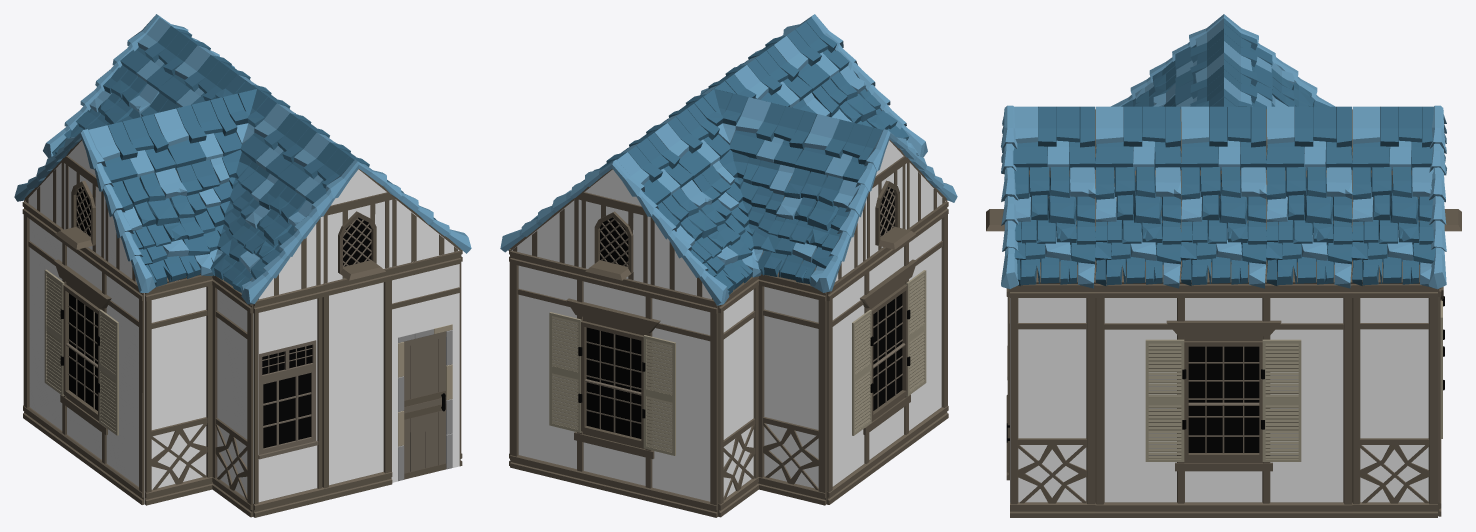
The model's file is house_05_full.fbx.
The picture shows the model from 3 angles, left to right: view 1: azimuth 30°, elevation 25°; view 2: azimuth 150°, elevation 25°; view 3: azimuth 270°, elevation 25°; orthographic projection. The views are drawn at different scales.
Parts seen in each view (by area): view 1: WINDOW_07_3, WINDOW_04_3, WALL_03_3, WALL_04_4, DOOR_02_2, WALL_04_3, ROOF_base_6, ROOF_inner_corner_3, ROOF_base_5, ROOF_triangle_window_grid_6, ROOF_base_small_8, ROOF_base_small_7 (+19 smaller); view 2: WINDOW_07_4, WINDOW_07_3, WALL_04_5, WALL_04_6, ROOF_base_11, ROOF_inner_corner_4, ROOF_base_10, ROOF_triangle_window_grid_8, ROOF_base_small_16, ROOF_base_small_14, ROOF_base_small_15, ROOF_base_5 (+16 smaller); view 3: WINDOW_07_5, WALL_04_7, WALL_04_8, ROOF_base_8, ROOF_base_4, ROOF_base_7, ROOF_base_9, ROOF_base_3, ROOF_base_small_11, ROOF_base_small_5, ROOF_base_small_10, ROOF_base_small_4 (+13 smaller).
Boxes of the visible parts, x1=… form: WINDOW_07_3: x1=22, y1=201, x2=144, y2=504; WINDOW_04_3: x1=253, y1=284, x2=323, y2=517; WALL_03_3: x1=322, y1=267, x2=392, y2=500; WALL_04_4: x1=144, y1=275, x2=212, y2=505; DOOR_02_2: x1=391, y1=250, x2=461, y2=482; WALL_04_3: x1=212, y1=275, x2=253, y2=517; ROOF_base_6: x1=112, y1=168, x2=213, y2=288; ROOF_inner_corner_3: x1=176, y1=149, x2=278, y2=262; ROOF_base_5: x1=210, y1=179, x2=314, y2=294; ROOF_triangle_window_grid_6: x1=322, y1=200, x2=390, y2=283; ROOF_base_small_8: x1=154, y1=97, x2=241, y2=170; ROOF_base_small_7: x1=88, y1=114, x2=176, y2=183; WINDOW_07_4: x1=510, y1=250, x2=717, y2=517; WINDOW_07_3: x1=826, y1=201, x2=948, y2=504; WALL_04_5: x1=758, y1=274, x2=826, y2=505; WALL_04_6: x1=718, y1=276, x2=758, y2=517; ROOF_base_11: x1=758, y1=168, x2=859, y2=289; ROOF_inner_corner_4: x1=693, y1=149, x2=794, y2=262; ROOF_base_10: x1=657, y1=180, x2=760, y2=294; ROOF_triangle_window_grid_8: x1=580, y1=200, x2=649, y2=283; ROOF_base_small_16: x1=729, y1=97, x2=816, y2=167; ROOF_base_small_14: x1=794, y1=114, x2=882, y2=182; ROOF_base_small_15: x1=654, y1=103, x2=730, y2=180; ROOF_base_5: x1=812, y1=66, x2=917, y2=155; WINDOW_07_5: x1=1095, y1=284, x2=1352, y2=517; WALL_04_7: x1=1352, y1=284, x2=1437, y2=517; WALL_04_8: x1=1010, y1=284, x2=1095, y2=517; ROOF_base_8: x1=1266, y1=164, x2=1352, y2=288; ROOF_base_4: x1=1095, y1=167, x2=1181, y2=288; ROOF_base_7: x1=1180, y1=166, x2=1266, y2=288; ROOF_base_9: x1=1351, y1=167, x2=1437, y2=287; ROOF_base_3: x1=1010, y1=166, x2=1095, y2=288; ROOF_base_small_11: x1=1266, y1=106, x2=1352, y2=170; ROOF_base_small_5: x1=1095, y1=106, x2=1181, y2=170; ROOF_base_small_10: x1=1181, y1=106, x2=1266, y2=170; ROOF_base_small_4: x1=1013, y1=106, x2=1095, y2=170.
Bounding box in the file's own units: 439 × 460 × 556.
